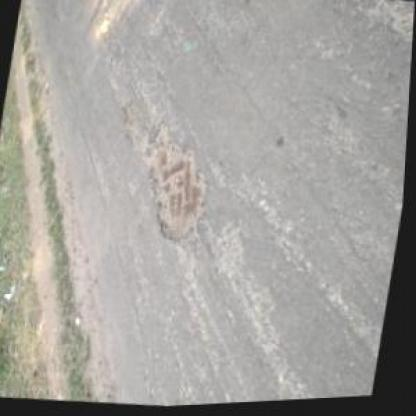pothole: (133, 125, 219, 247), (119, 103, 144, 140)
